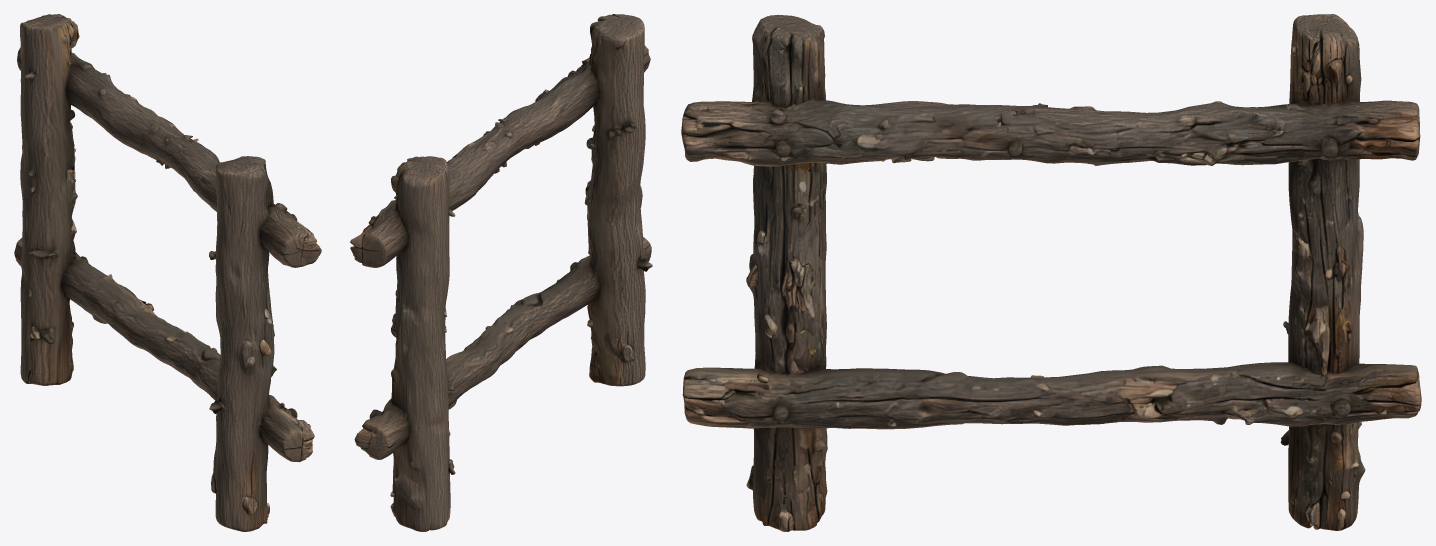
Rendered from fence.glb.
3 views of the same model, side by side, from view 1: azimuth 30°, elevation 25°; view 2: azimuth 150°, elevation 25°; view 3: azimuth 270°, elevation 25° (orthographic). The views are drawn at different scales.
Parts seen in each view (by area): view 1: tripo_node_b6ad42ba-710a-472d-b346-7793c0bdb9bd; view 2: tripo_node_b6ad42ba-710a-472d-b346-7793c0bdb9bd; view 3: tripo_node_b6ad42ba-710a-472d-b346-7793c0bdb9bd.
Boxes of the visible parts, x1,y1,x2,y2 form: tripo_node_b6ad42ba-710a-472d-b346-7793c0bdb9bd: (14, 14, 321, 531); tripo_node_b6ad42ba-710a-472d-b346-7793c0bdb9bd: (350, 14, 652, 531); tripo_node_b6ad42ba-710a-472d-b346-7793c0bdb9bd: (681, 14, 1421, 531).
Size of the model in its own units: 0.2125 by 0.85 by 1.15.
1 material, 1 textured.
